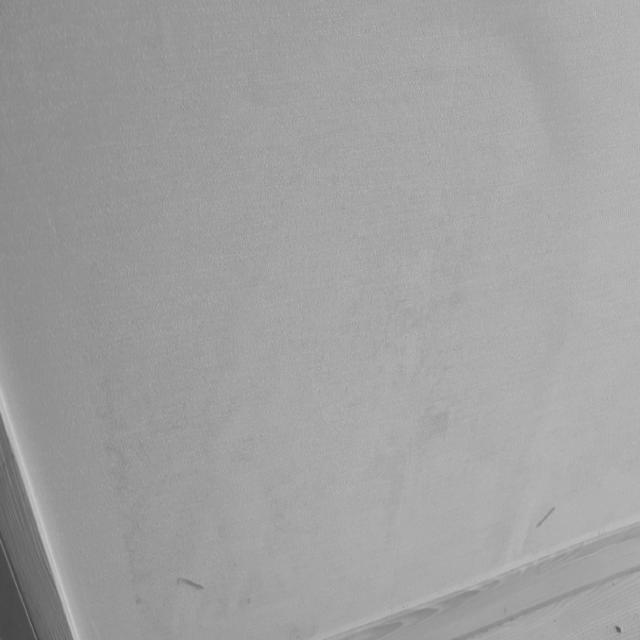stain marks: (313, 185, 580, 585), (98, 312, 306, 625)
